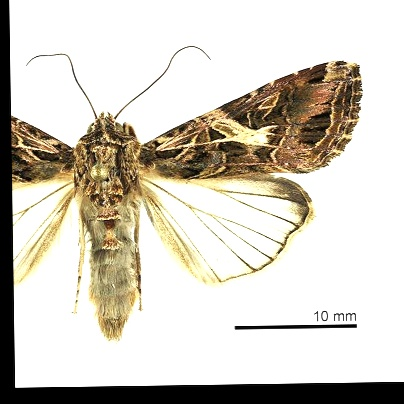Spodoptera litura: (12, 44, 366, 349)
